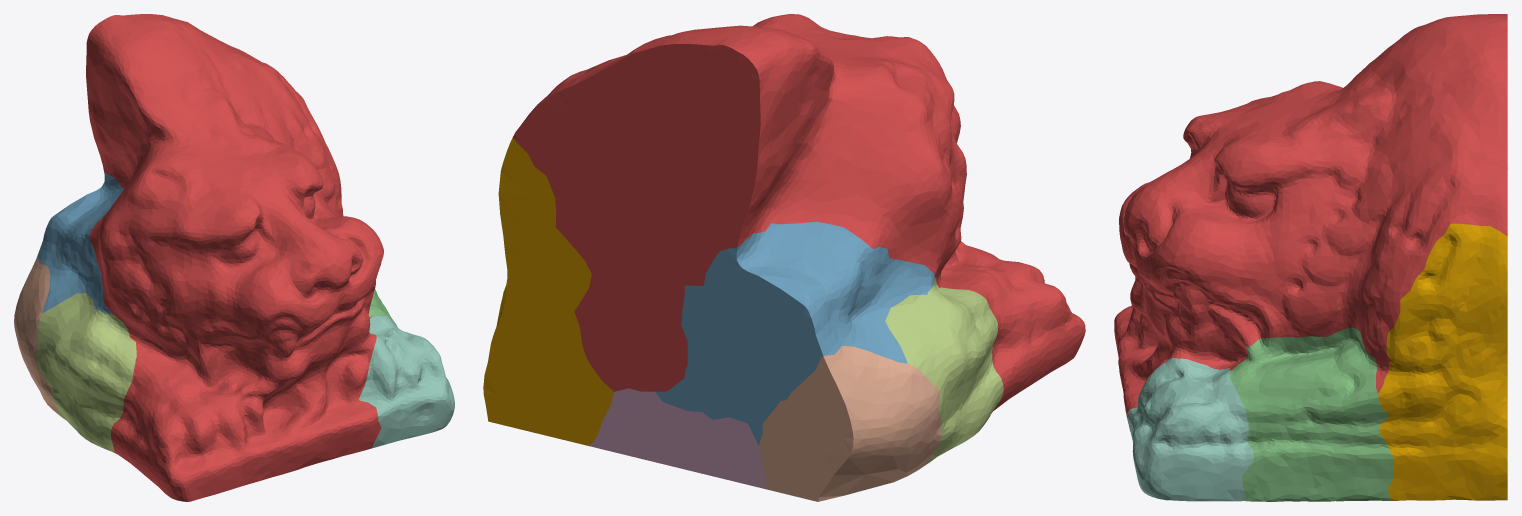
Rendered from mode_13_8pcs.glb.
3 views of the same model, side by side, from view 1: azimuth 30°, elevation 25°; view 2: azimuth 150°, elevation 25°; view 3: azimuth 270°, elevation 25° (orthographic). The views are drawn at different scales.
Visible parts, largest first — view 1: piece_1.obj, piece_5.obj, piece_4.obj, piece_2.obj, piece_7.obj; view 2: piece_1.obj, piece_2.obj, piece_0.obj, piece_7.obj, piece_5.obj, piece_6.obj; view 3: piece_1.obj, piece_0.obj, piece_3.obj, piece_4.obj.
Boxes of the visible parts, left/top/right/bottom form: piece_1.obj: left=86, top=14, right=383, bottom=501; piece_5.obj: left=36, top=293, right=136, bottom=452; piece_4.obj: left=359, top=315, right=454, bottom=448; piece_2.obj: left=37, top=172, right=124, bottom=314; piece_7.obj: left=14, top=256, right=58, bottom=414; piece_1.obj: left=512, top=14, right=1085, bottom=410; piece_2.obj: left=655, top=221, right=934, bottom=445; piece_0.obj: left=483, top=138, right=613, bottom=445; piece_7.obj: left=759, top=345, right=941, bottom=501; piece_5.obj: left=885, top=277, right=1003, bottom=463; piece_6.obj: left=589, top=388, right=766, bottom=488; piece_1.obj: left=1114, top=14, right=1507, bottom=434; piece_0.obj: left=1378, top=223, right=1507, bottom=500; piece_3.obj: left=1230, top=327, right=1393, bottom=501; piece_4.obj: left=1127, top=358, right=1253, bottom=501.
Size of the model in its own units: 0.966 by 1 by 0.9361.
